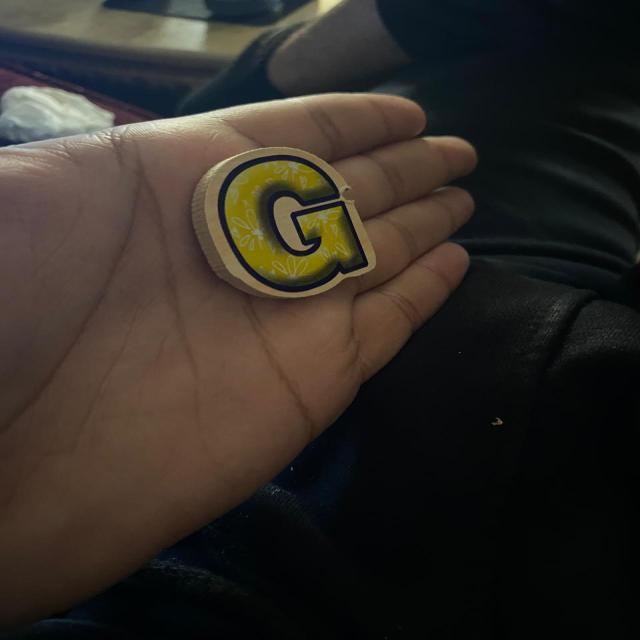G: (193, 148, 376, 298)
